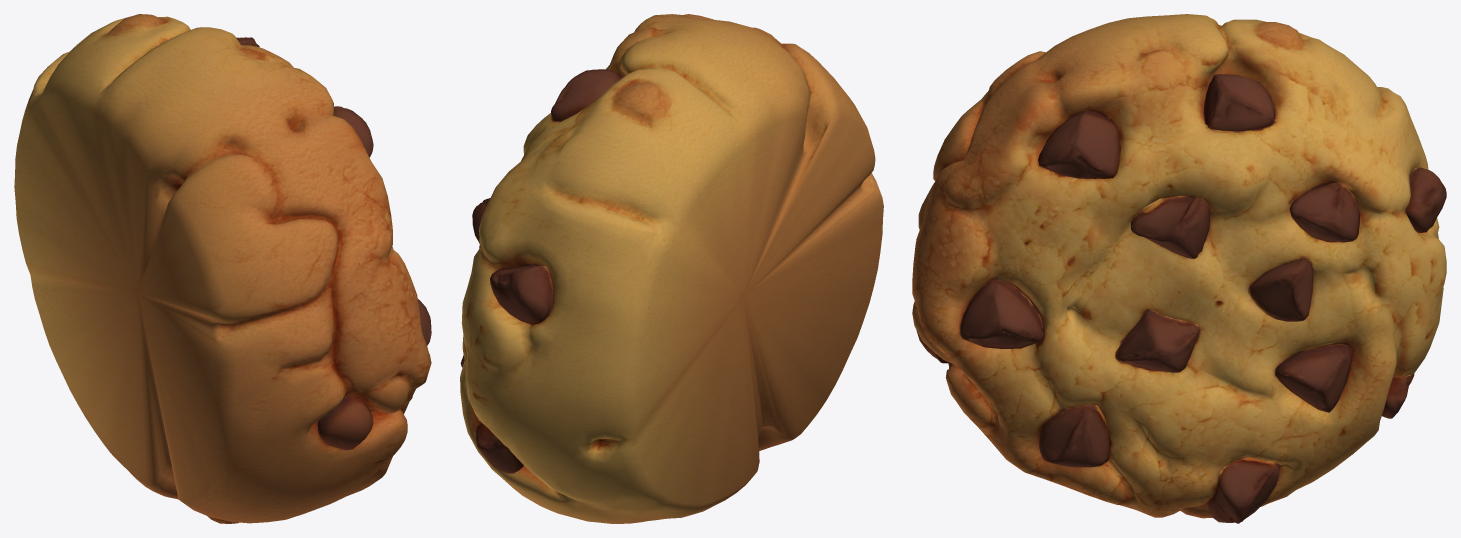
The model's file is r33-cookie.glb.
3 renders of one model, left to right at view 1: azimuth 30°, elevation 25°; view 2: azimuth 150°, elevation 25°; view 3: azimuth 270°, elevation 25°, orthographic. The views are drawn at different scales.
Visible parts, largest first — view 1: tripo_node_f5d12c91-ff16-44eb-856d-fdf29d40f5d9; view 2: tripo_node_f5d12c91-ff16-44eb-856d-fdf29d40f5d9; view 3: tripo_node_f5d12c91-ff16-44eb-856d-fdf29d40f5d9.
Part boxes in pixels (x1=…): tripo_node_f5d12c91-ff16-44eb-856d-fdf29d40f5d9: x1=14, y1=14, x2=431, y2=523; tripo_node_f5d12c91-ff16-44eb-856d-fdf29d40f5d9: x1=460, y1=14, x2=883, y2=523; tripo_node_f5d12c91-ff16-44eb-856d-fdf29d40f5d9: x1=912, y1=14, x2=1446, y2=523.
Bounding box in the file's own units: 0.5137 × 0.959 × 0.998.
1 material, 1 textured.
